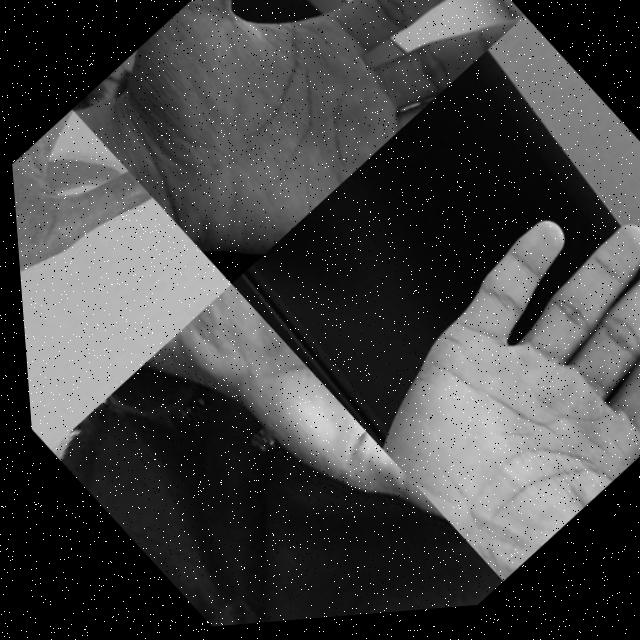hand: (69, 274, 462, 637), (319, 160, 640, 598), (84, 0, 538, 280), (7, 105, 165, 368)
